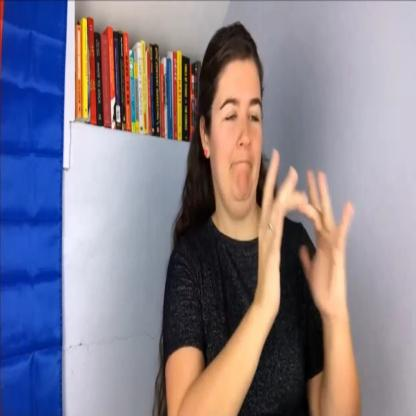Internet: (248, 134, 363, 336)
